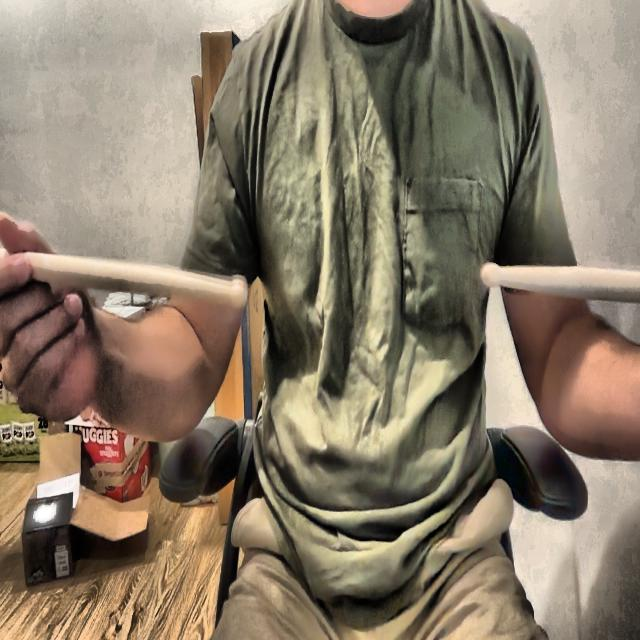Drumstick-Heads: (224, 274, 252, 309), (478, 257, 502, 297)
